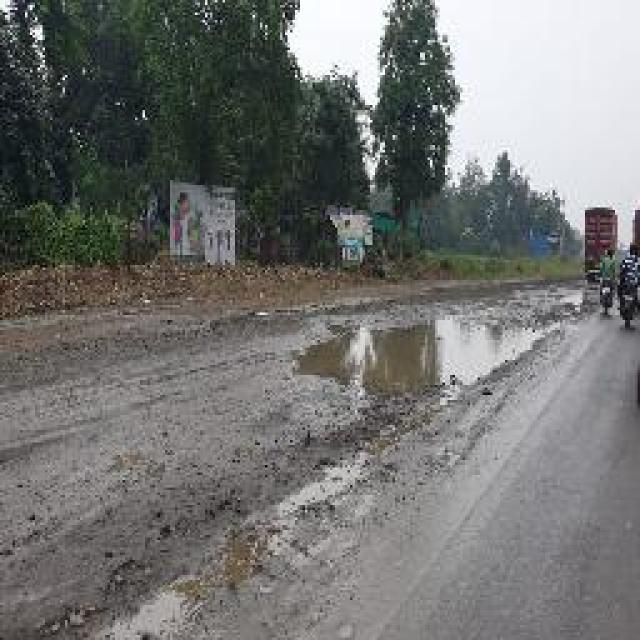waterlogging: (319, 311, 540, 405)
